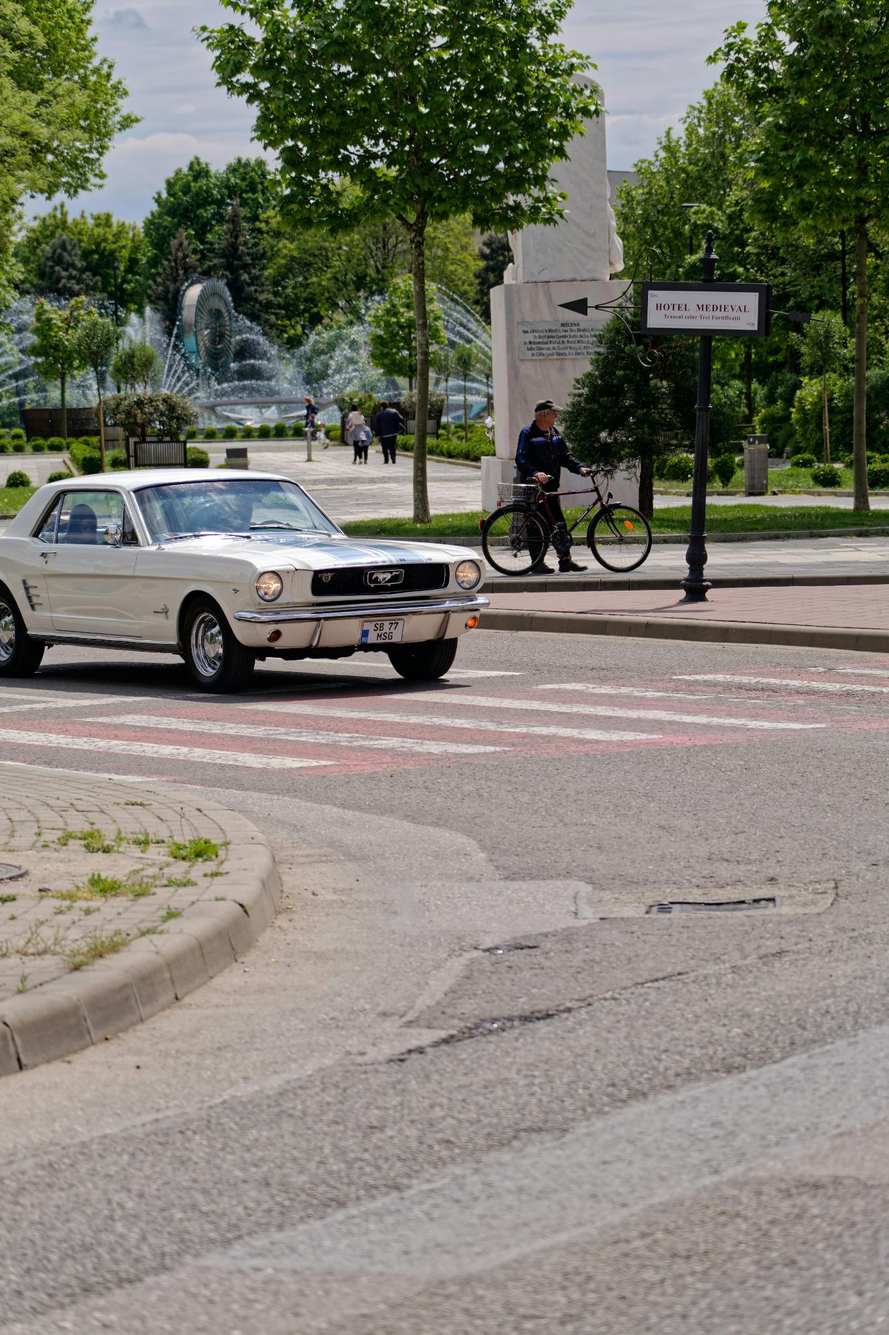car: (0, 467, 486, 698)
pedestrian: (522, 398, 593, 573), (374, 399, 407, 466), (342, 411, 375, 462), (304, 395, 318, 427)
